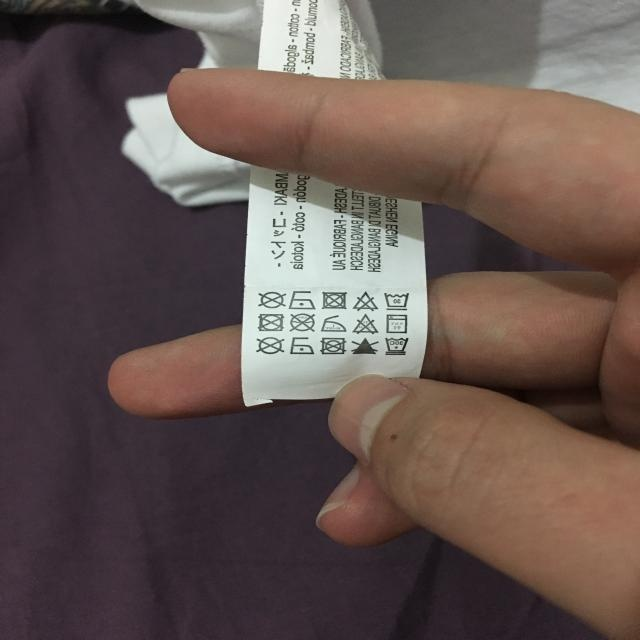30C: (381, 288, 412, 312), (383, 312, 407, 334), (383, 337, 410, 356)
DN_bleach: (352, 314, 379, 335), (351, 337, 378, 355), (353, 291, 377, 310)
DN_dry_clean: (288, 313, 317, 334), (256, 336, 285, 355), (257, 291, 285, 309)
DN_tumble_dry: (321, 289, 348, 311), (320, 335, 347, 356), (257, 313, 285, 332)
iron_low: (288, 290, 316, 311), (289, 336, 315, 357), (319, 314, 347, 332)
